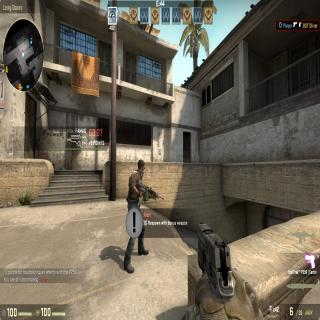T-Body: (124, 158, 146, 273)
T-Head: (136, 159, 146, 179)
